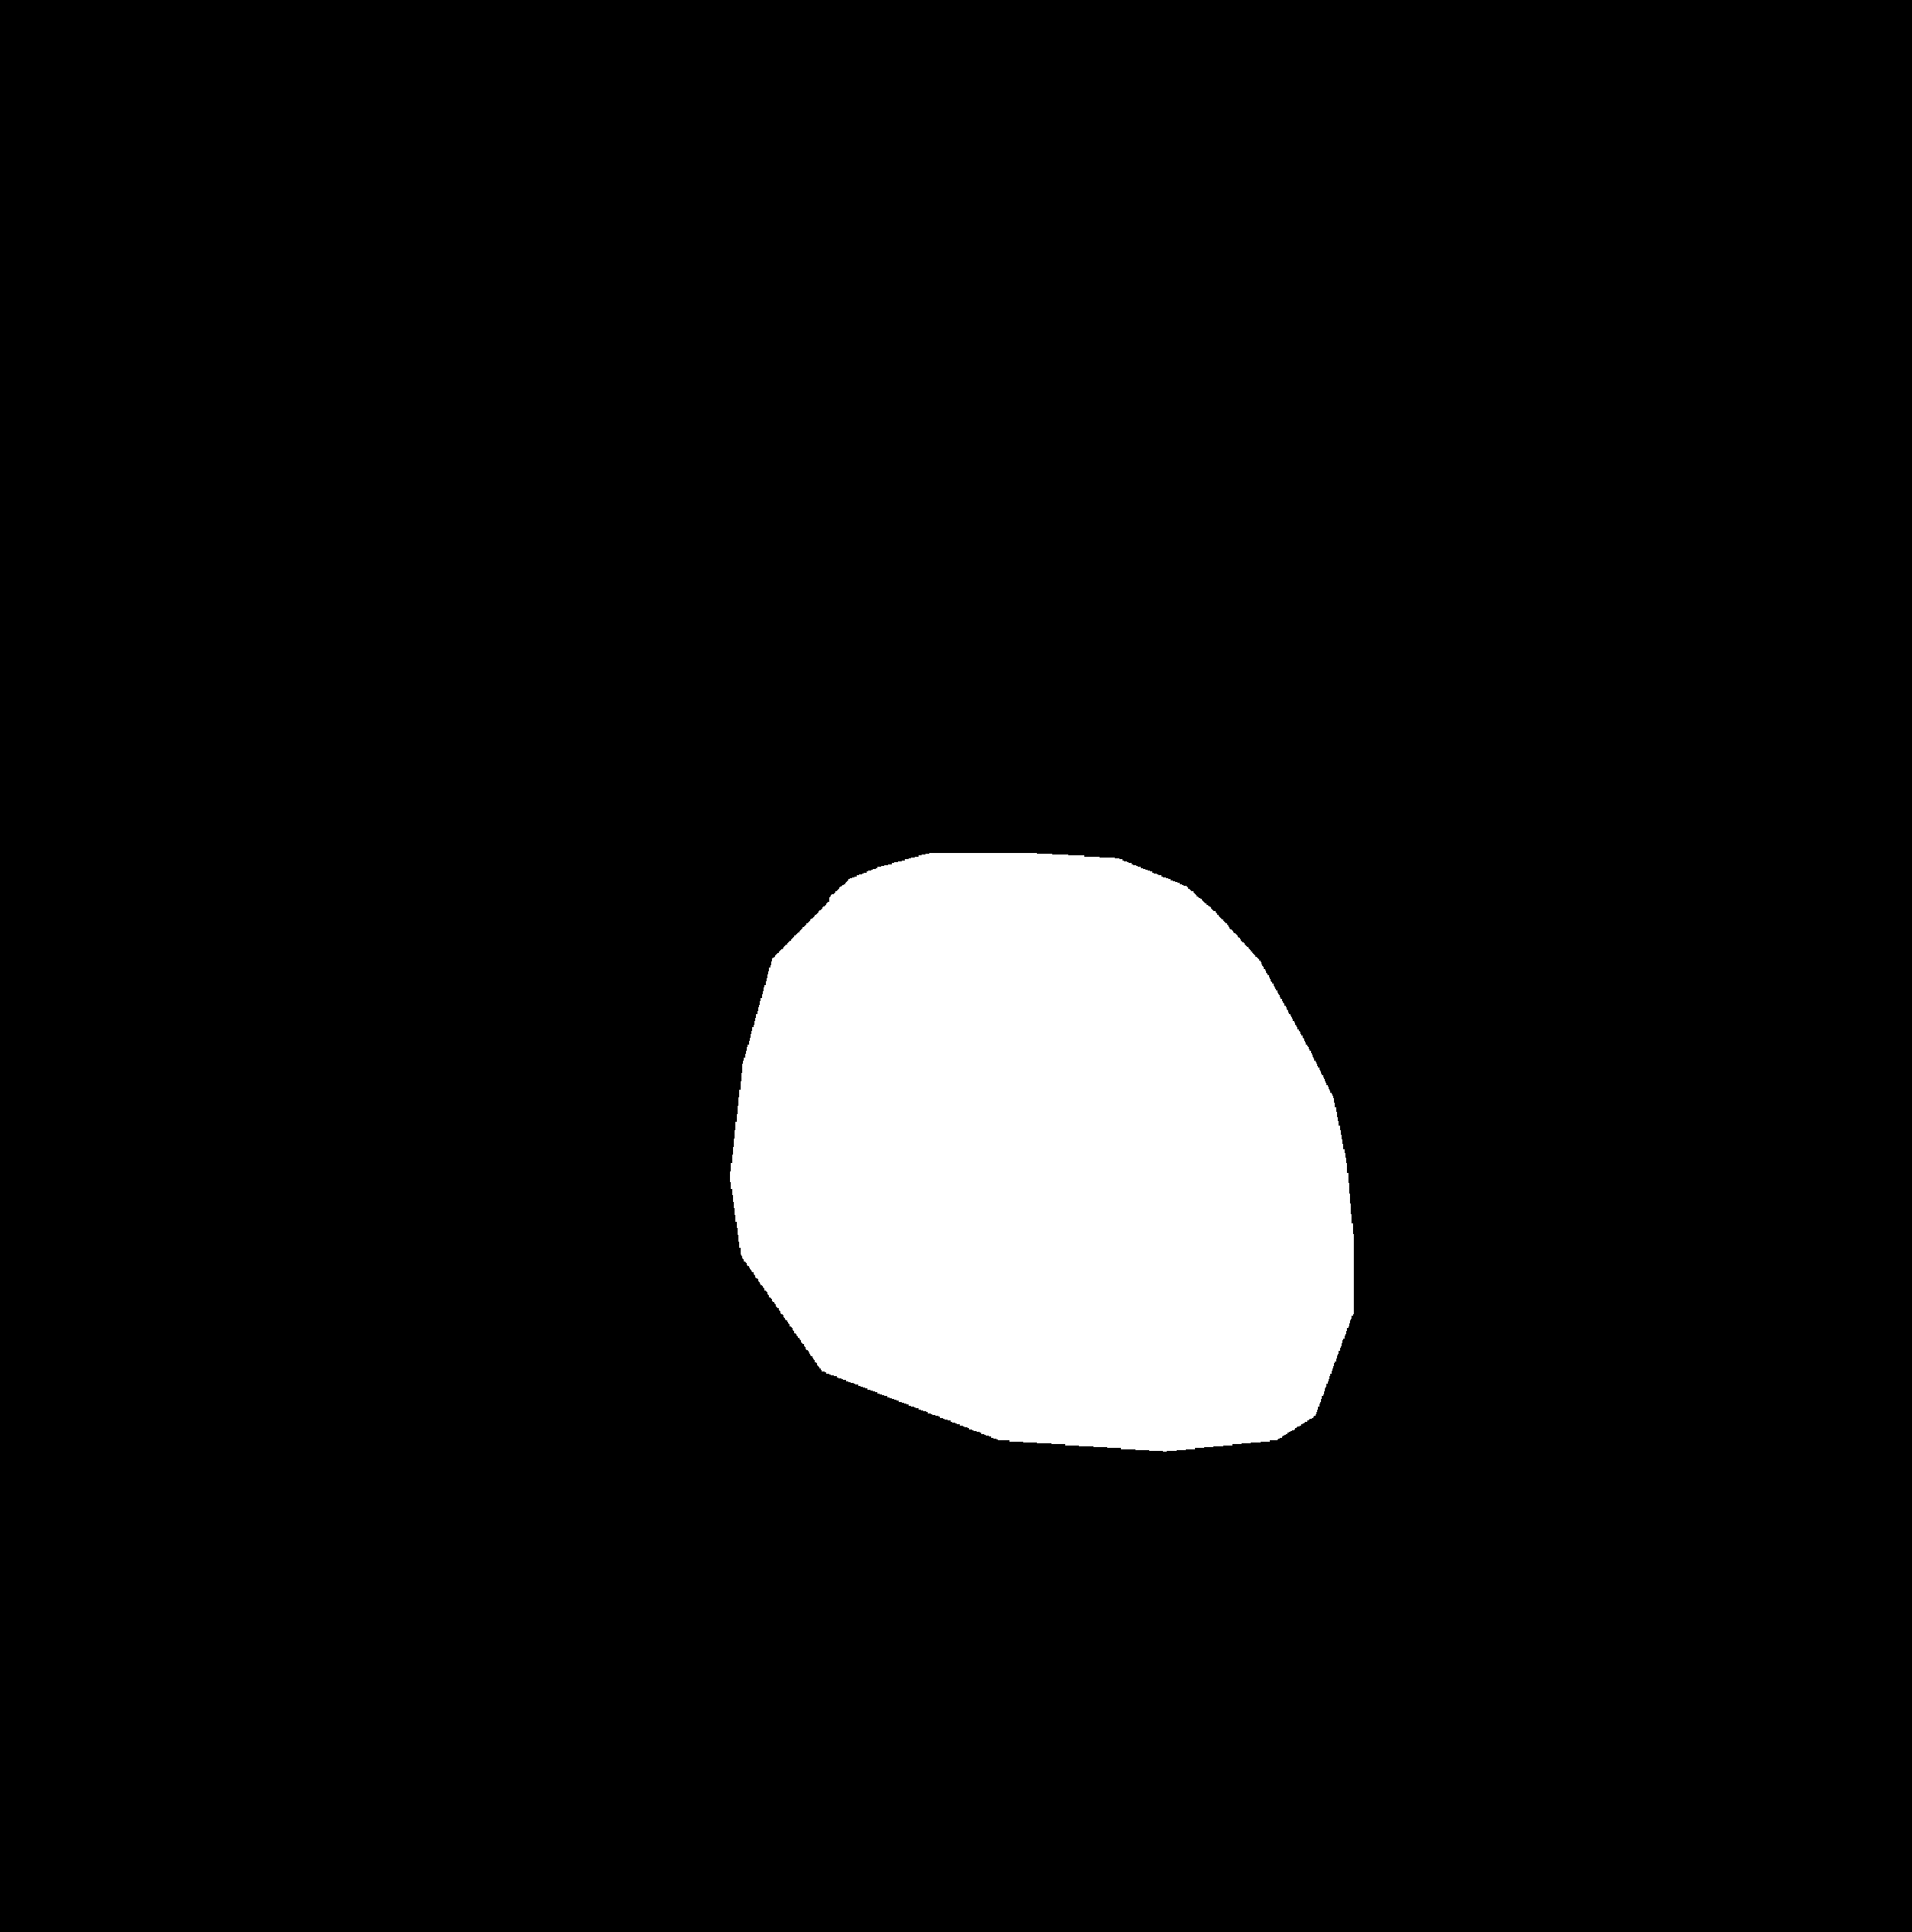heart: (727, 874, 1353, 1501)
left_lung: (186, 47, 900, 1520)
right_lung: (1054, 44, 1688, 1634)
